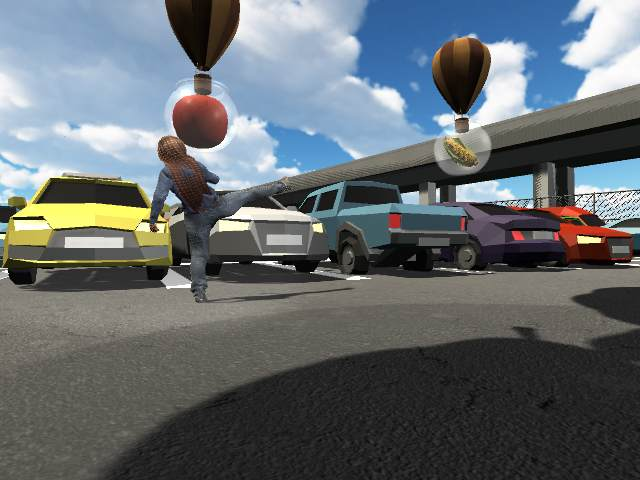turn_right: (151, 135, 290, 305)
